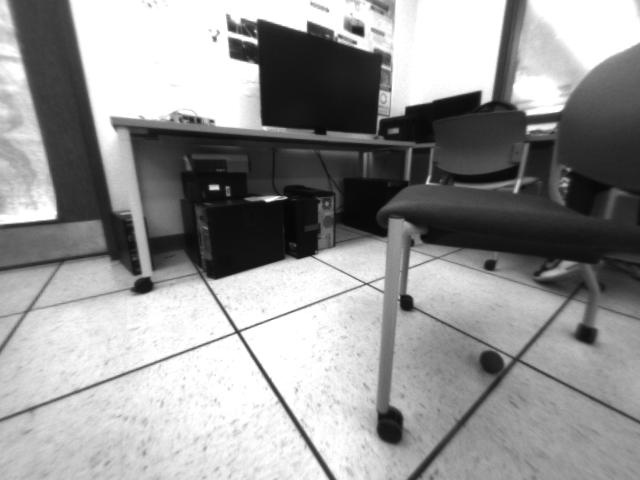dogtoy: (474, 345, 510, 382)
